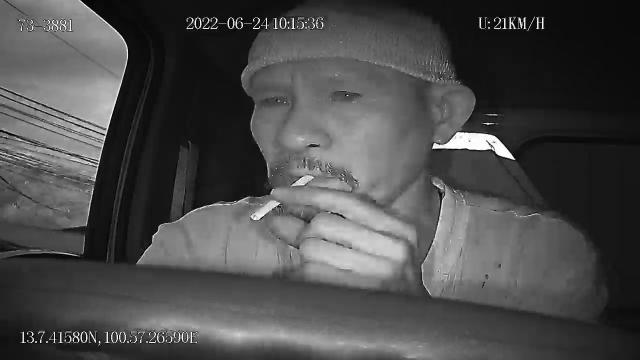SafeDriving: (319, 73, 372, 108), (247, 84, 301, 112)
Smoking: (250, 173, 314, 221)
